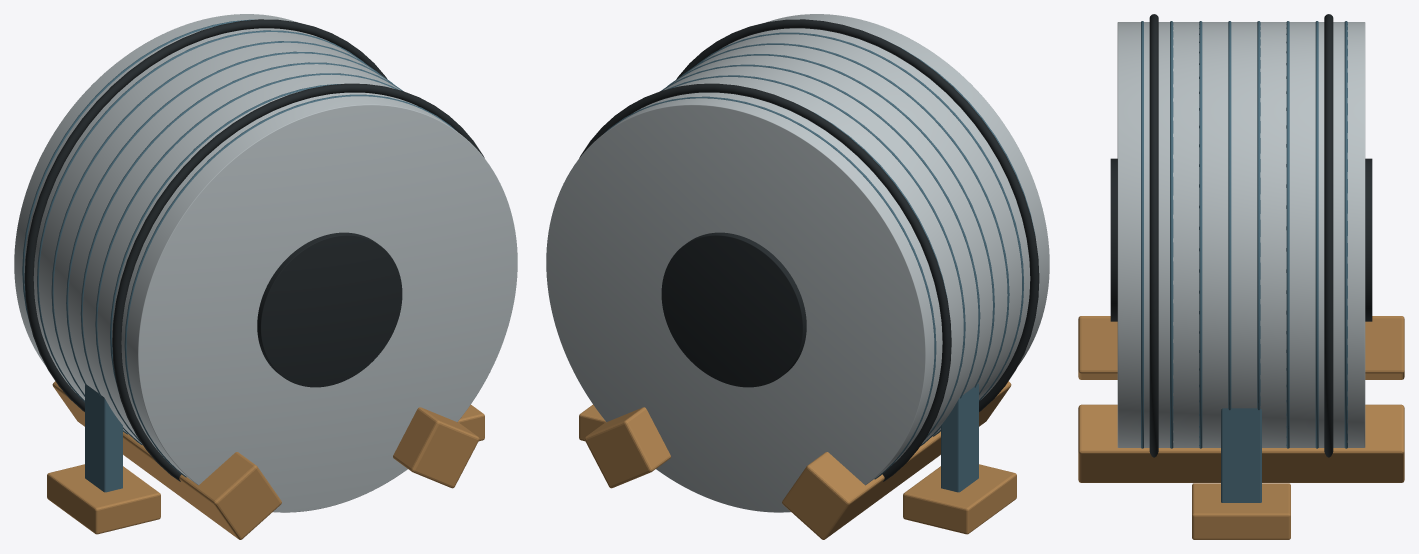
File: steel_coil_on_saddles.glb
3 views of the same model, side by side, from view 1: azimuth 30°, elevation 25°; view 2: azimuth 150°, elevation 25°; view 3: azimuth 270°, elevation 25° (orthographic).
Visible parts, largest first — view 1: STEEL_coil, COIL_eye, COIL_saddle_chock_-0.39, COIL_shipping_band_-0.3, COIL_shipping_band_0.3, COIL_retention_foot_-0.64, COIL_saddle_chock_0.39, COIL_retention_post_-0.64, COIL_wrap_-0.34, COIL_wrap_0.26, COIL_wrap_0.16, COIL_wrap_-0.04 (+4 smaller); view 2: STEEL_coil, COIL_eye, COIL_saddle_chock_-0.39, COIL_shipping_band_0.3, COIL_shipping_band_-0.3, COIL_retention_foot_-0.64, COIL_saddle_chock_0.39, COIL_retention_post_-0.64, COIL_wrap_0.36, COIL_wrap_-0.24, COIL_wrap_-0.14, COIL_wrap_0.06 (+2 smaller); view 3: STEEL_coil, COIL_saddle_chock_0.39, COIL_saddle_chock_-0.39, COIL_retention_foot_0.64, COIL_shipping_band_0.3, COIL_shipping_band_-0.3, COIL_retention_post_0.64, COIL_eye, COIL_wrap_0.36, COIL_wrap_0.16, COIL_wrap_0.26, COIL_wrap_-0.14 (+4 smaller).
Part boxes in pixels (bbox=[...]): STEEL_coil: bbox=[14, 14, 517, 512]; COIL_eye: bbox=[257, 232, 402, 387]; COIL_saddle_chock_-0.39: bbox=[52, 381, 281, 539]; COIL_shipping_band_-0.3: bbox=[112, 83, 484, 481]; COIL_shipping_band_0.3: bbox=[24, 19, 386, 411]; COIL_retention_foot_-0.64: bbox=[47, 464, 160, 534]; COIL_saddle_chock_0.39: bbox=[393, 407, 479, 488]; COIL_retention_post_-0.64: bbox=[85, 384, 122, 492]; COIL_wrap_-0.34: bbox=[124, 94, 455, 477]; COIL_wrap_0.26: bbox=[37, 30, 363, 401]; COIL_wrap_0.16: bbox=[51, 41, 377, 396]; COIL_wrap_-0.04: bbox=[80, 62, 402, 444]; STEEL_coil: bbox=[546, 14, 1049, 512]; COIL_eye: bbox=[661, 232, 806, 387]; COIL_saddle_chock_-0.39: bbox=[782, 381, 1011, 539]; COIL_shipping_band_0.3: bbox=[579, 83, 951, 481]; COIL_shipping_band_-0.3: bbox=[676, 19, 1039, 411]; COIL_retention_foot_-0.64: bbox=[903, 464, 1016, 534]; COIL_saddle_chock_0.39: bbox=[584, 407, 670, 488]; COIL_retention_post_-0.64: bbox=[941, 383, 978, 492]; COIL_wrap_0.36: bbox=[604, 96, 936, 479]; COIL_wrap_-0.24: bbox=[697, 32, 1023, 401]; COIL_wrap_-0.14: bbox=[683, 43, 1009, 394]; COIL_wrap_0.06: bbox=[661, 64, 980, 446]; STEEL_coil: bbox=[1117, 22, 1365, 447]; COIL_saddle_chock_0.39: bbox=[1078, 404, 1404, 482]; COIL_saddle_chock_-0.39: bbox=[1078, 316, 1404, 379]; COIL_retention_foot_0.64: bbox=[1192, 483, 1290, 539]; COIL_shipping_band_0.3: bbox=[1324, 14, 1333, 457]; COIL_shipping_band_-0.3: bbox=[1149, 14, 1158, 457]; COIL_retention_post_0.64: bbox=[1221, 408, 1261, 502]; COIL_eye: bbox=[1110, 158, 1372, 321]; COIL_wrap_0.36: bbox=[1344, 21, 1347, 448]; COIL_wrap_0.16: bbox=[1286, 21, 1289, 448]; COIL_wrap_0.26: bbox=[1315, 21, 1318, 448]; COIL_wrap_-0.14: bbox=[1199, 21, 1202, 448].
Bounding box in the file's own units: 1.56 × 1.56 × 1.12.
